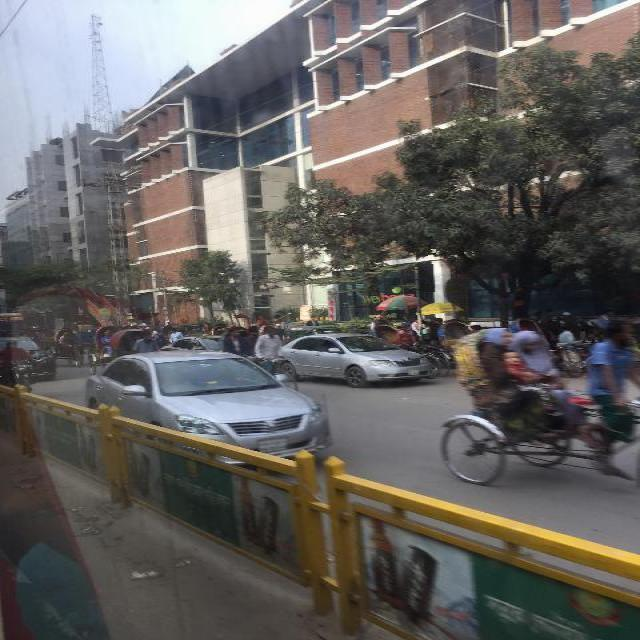silver: (86, 352, 338, 463), (271, 328, 431, 384)
